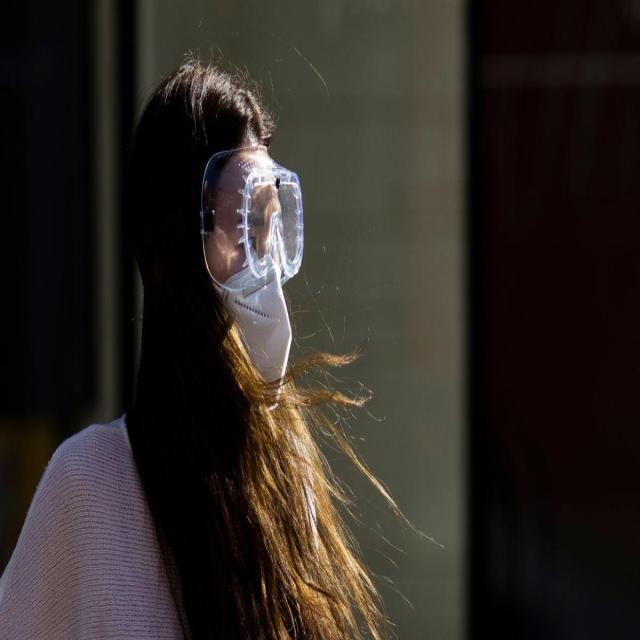Goggles: (198, 142, 307, 304)
Mask: (220, 255, 298, 414)
